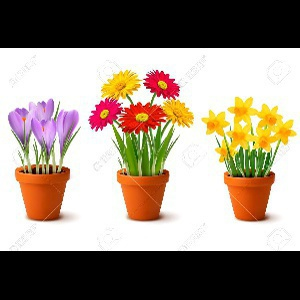flowerpot: (14, 161, 69, 221), (116, 166, 170, 223), (223, 169, 276, 221)
